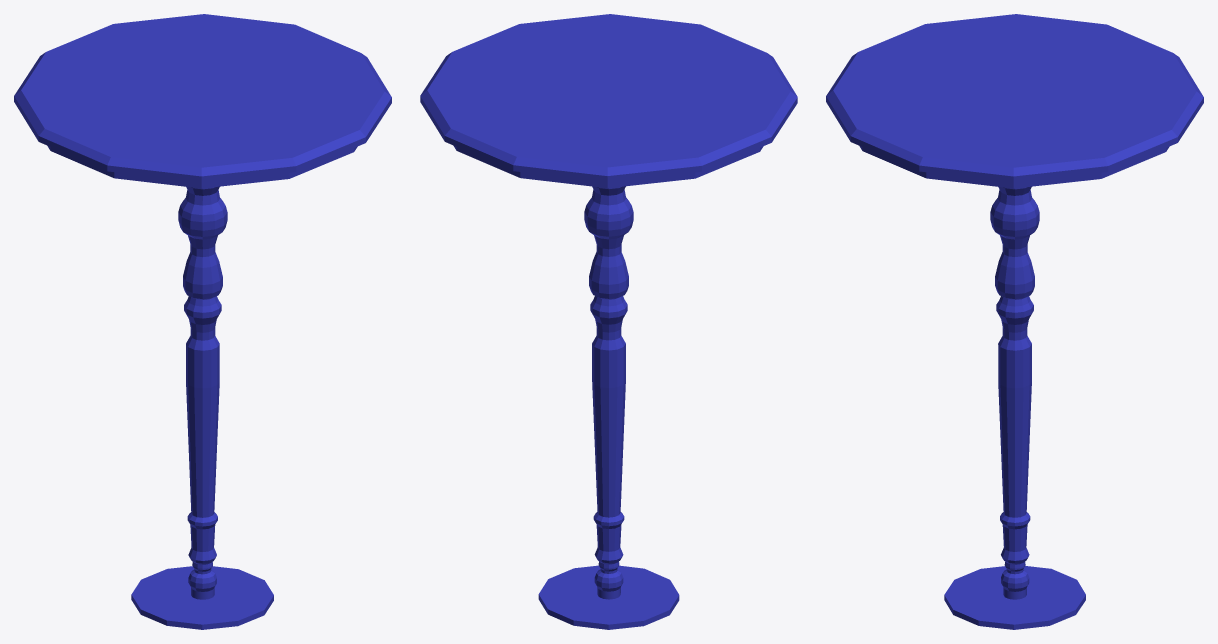
File: Table002.FBX
3 renders of one model, left to right at view 1: azimuth 30°, elevation 25°; view 2: azimuth 150°, elevation 25°; view 3: azimuth 270°, elevation 25°, orthographic.
Visible parts, largest first — view 1: Table002; view 2: Table002; view 3: Table002.
Boxes of the visible parts, x1,y1,x2,y2 form: Table002: (14, 14, 391, 629); Table002: (420, 14, 797, 629); Table002: (826, 14, 1203, 629).
Size of the model in its own units: 1.11 by 1.65 by 1.11.
